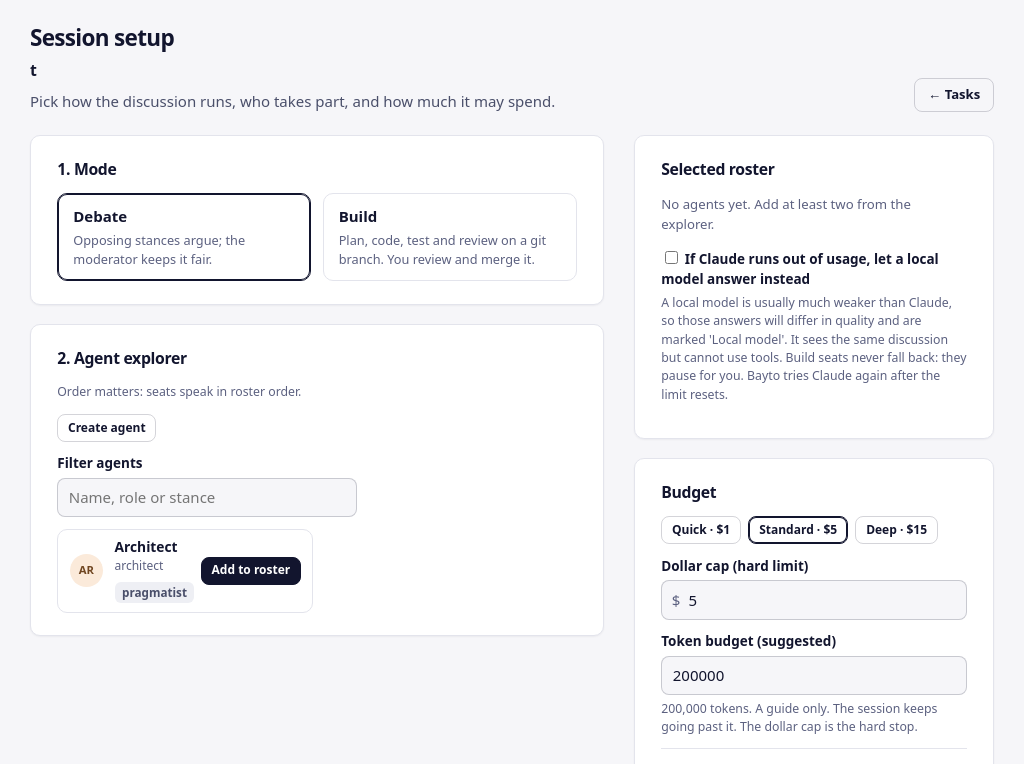
Custom agents on the setup screen › shows the server reason when a name is refused and keeps the dialog open
The image size is (1024, 764).
Click the button "Create agent" at point(107, 428), box [57,414,156,442]
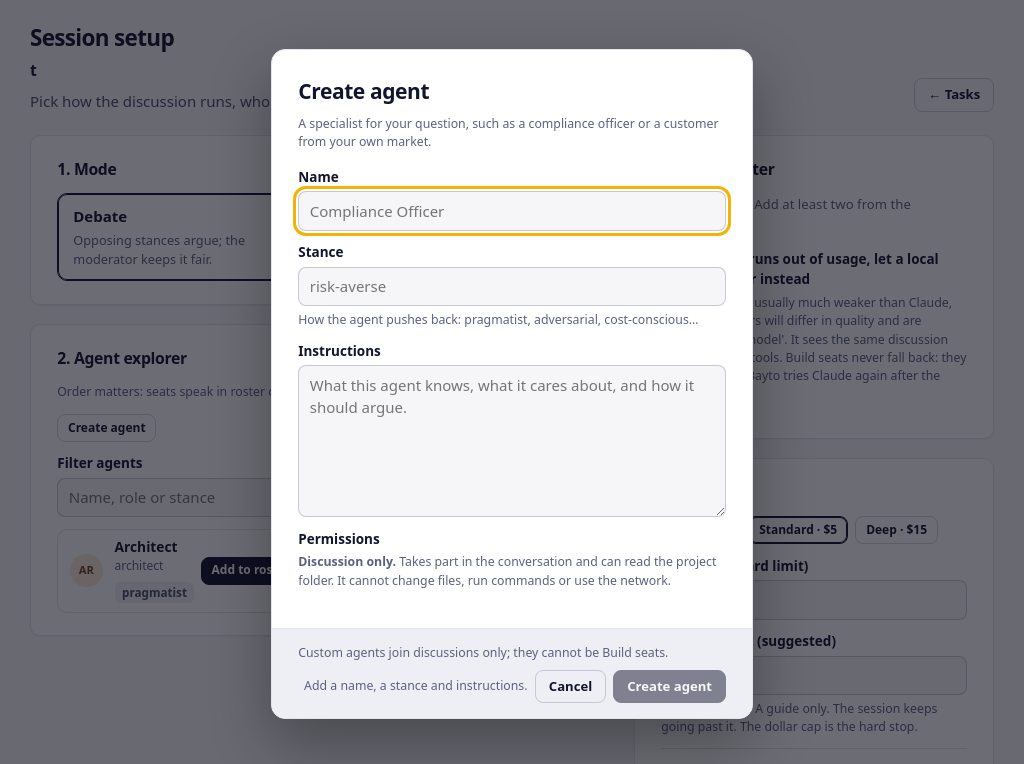
Type "Moderator" into the field labelled "Name" at point(512, 211), box [298,191,726,231]
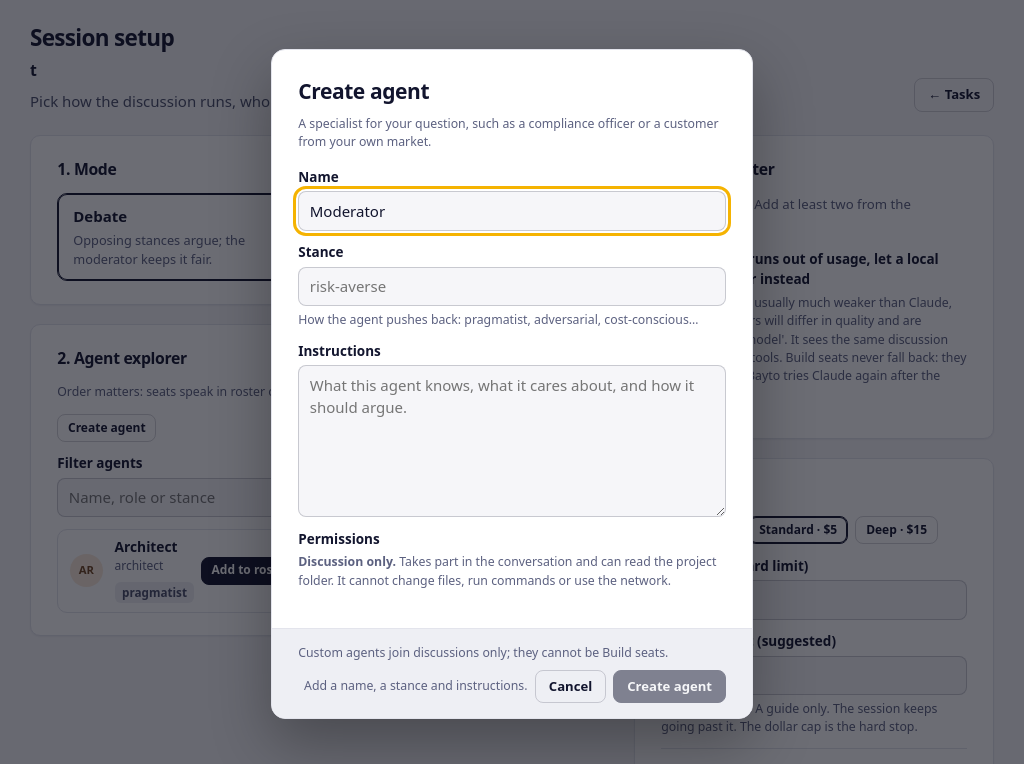
Type "s" into the field labelled "Stance" at point(512, 287), box [298,267,726,306]
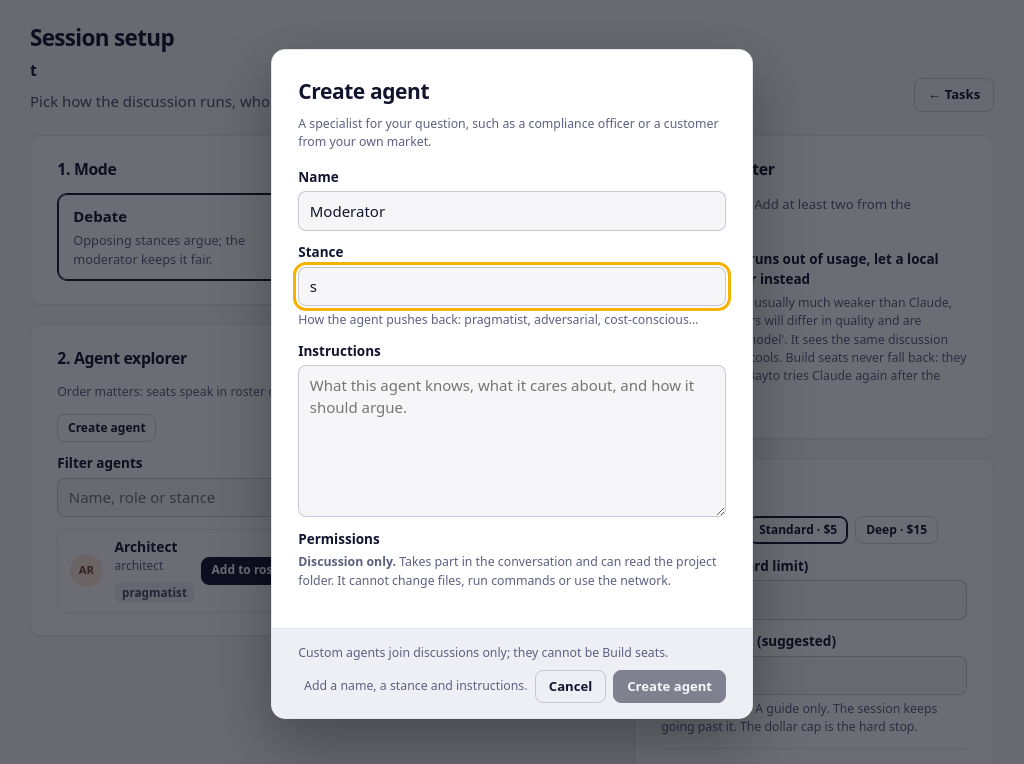
Type "x" into the text box labelled "Instructions" at point(512, 441), box [298,365,726,517]
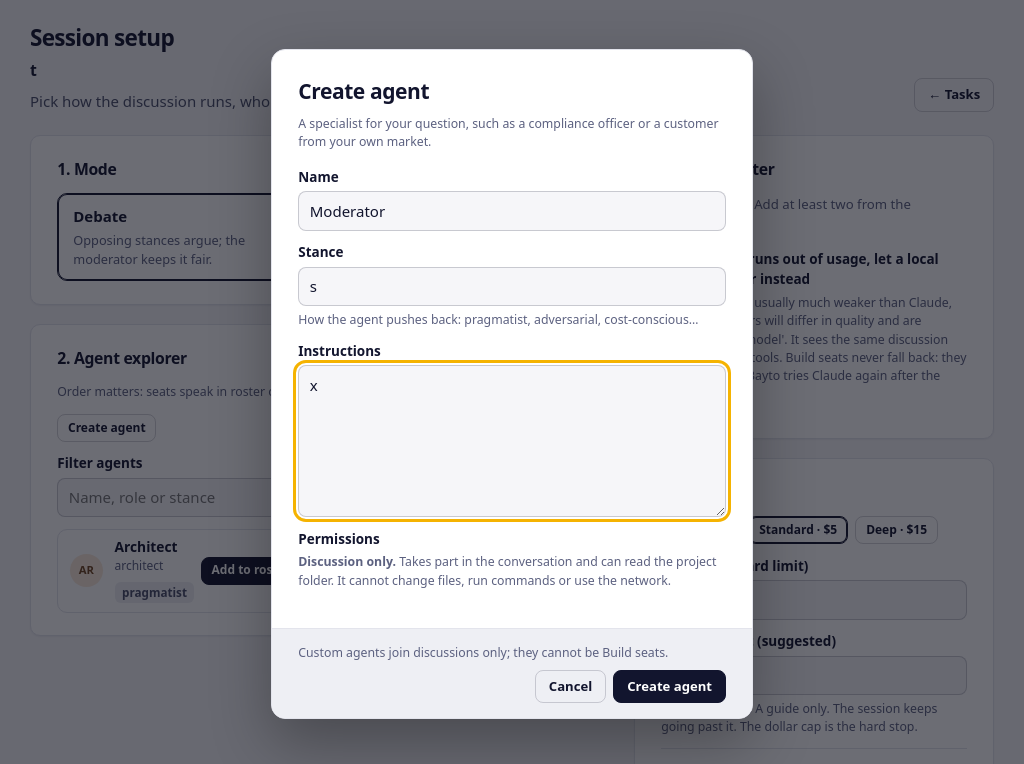
Click the button "Create agent" at point(670, 687), box [613,670,726,704]
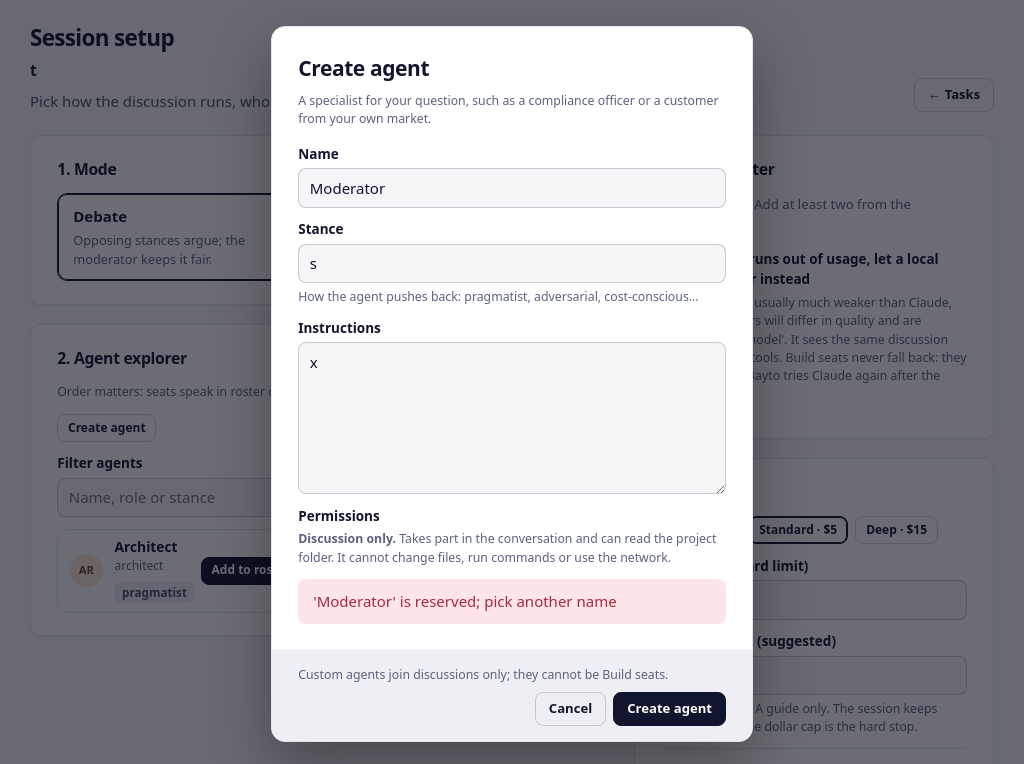
Result: the dialog "Create agent" is shown at [271,26,753,742]
Result: the message shows "reserved" at [313,591,617,611]
